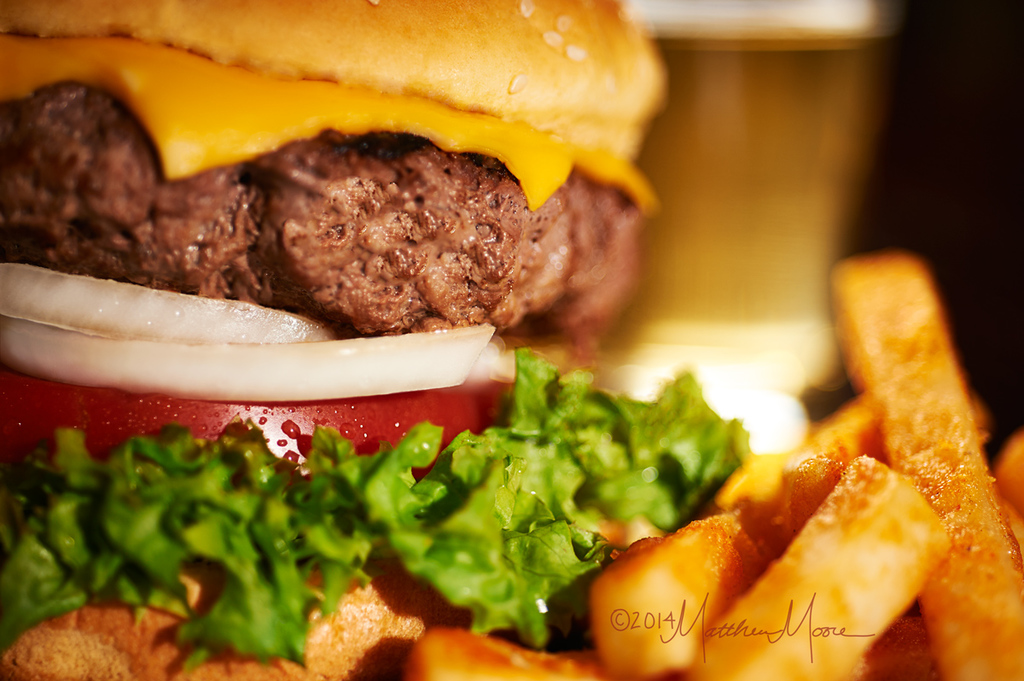Hamburger: (0, 0, 758, 680)
